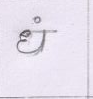anusvara: (34, 17, 41, 23)
